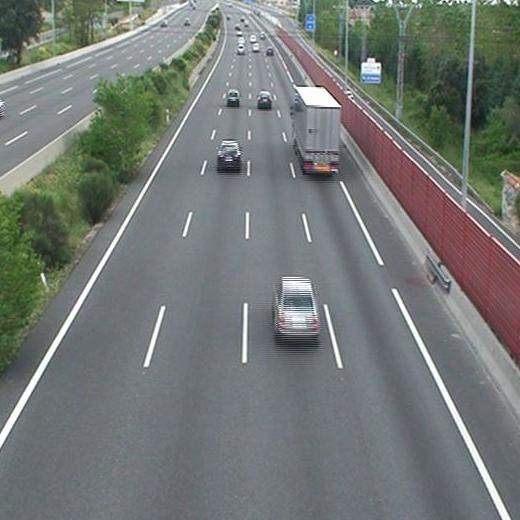car: (276, 277, 319, 338), (218, 140, 241, 166), (257, 91, 273, 107), (227, 90, 240, 104), (236, 43, 245, 53), (252, 43, 259, 53), (266, 46, 273, 55)
truck: (292, 87, 340, 174)
